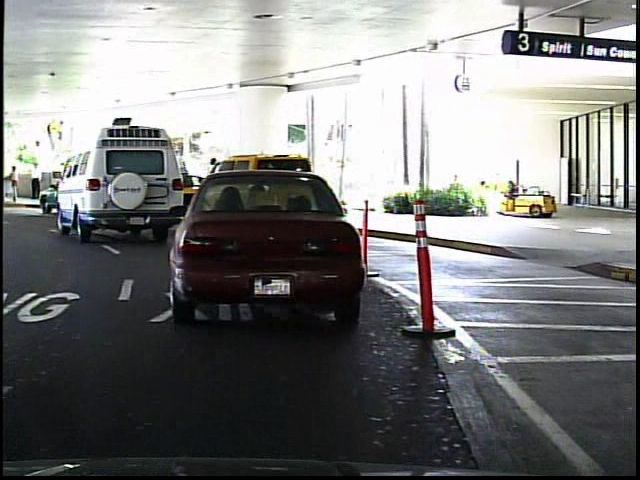person: (200, 155, 224, 217), (9, 163, 26, 203), (29, 161, 44, 204)
